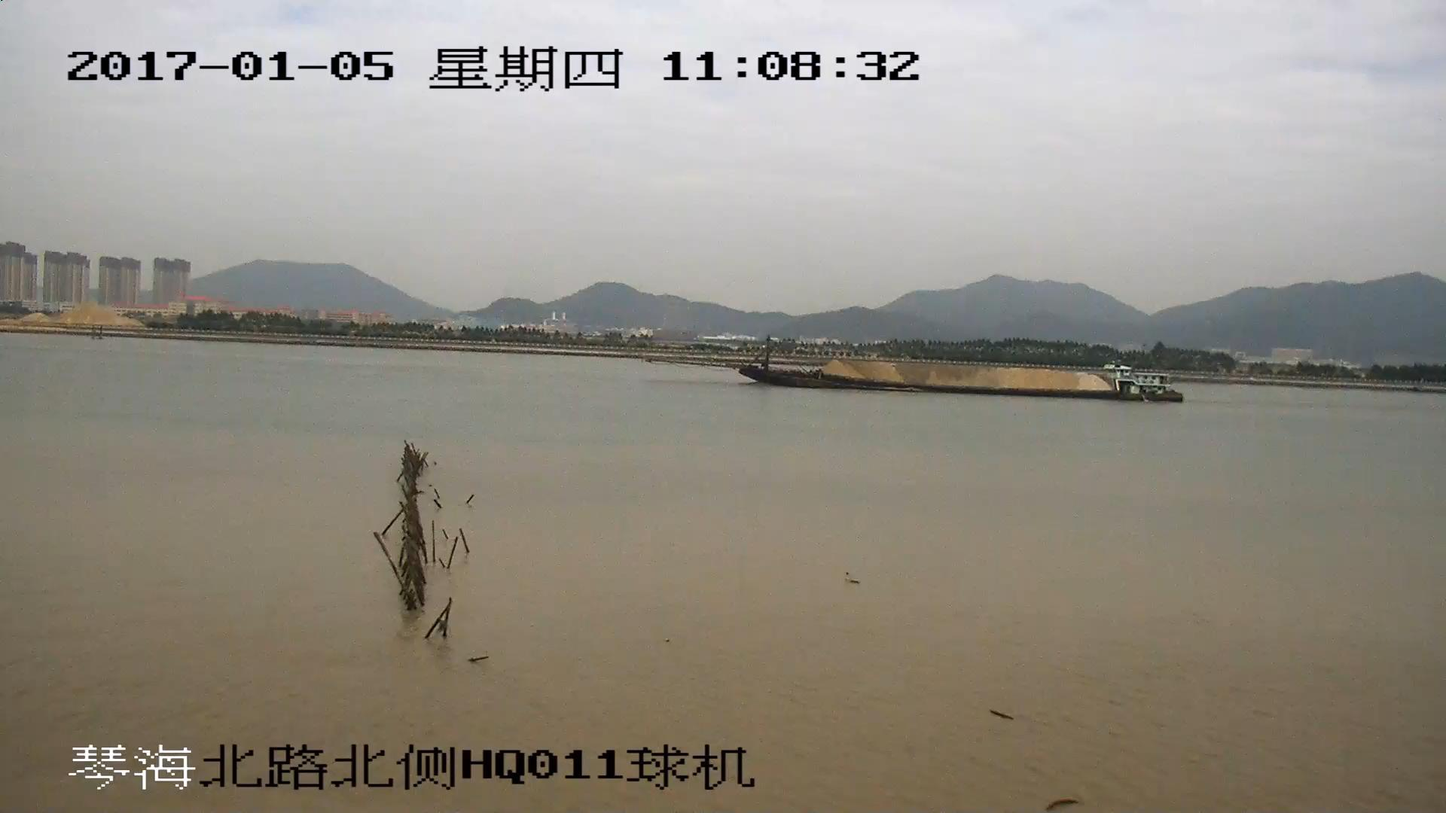ore carrier: (673, 340, 1179, 403)
